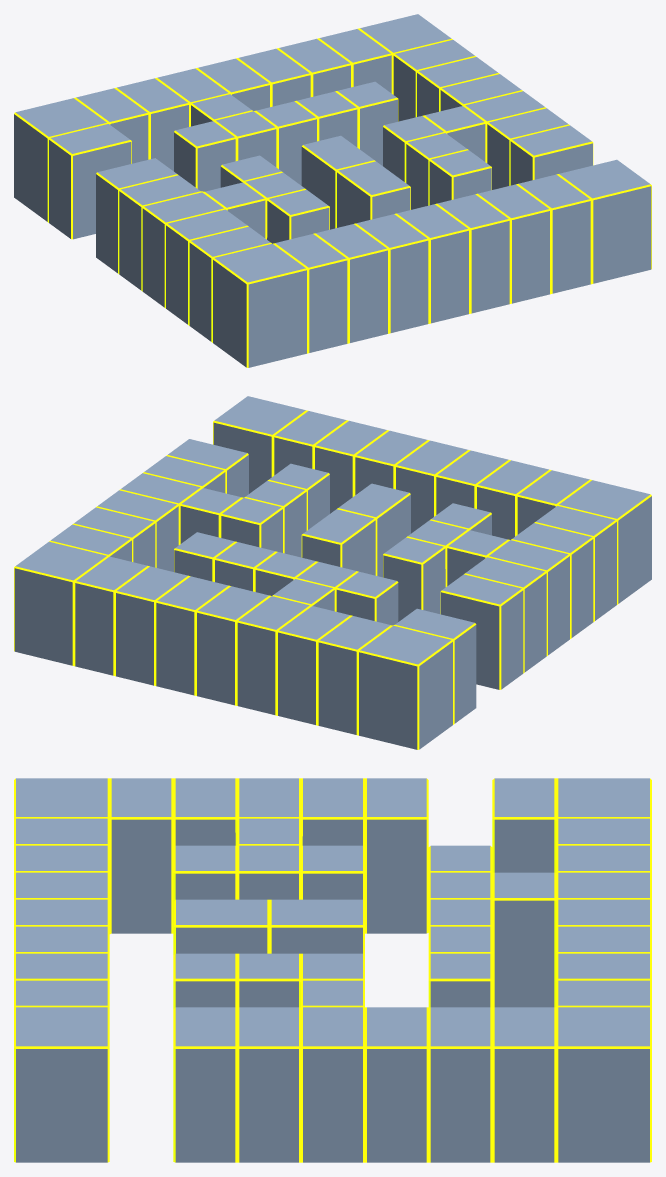
Rendered from maze-1.fbx.
The picture shows the model from 3 angles, top to bottom: view 1: azimuth 30°, elevation 25°; view 2: azimuth 150°, elevation 25°; view 3: azimuth 270°, elevation 25°; orthographic projection. The views are drawn at different scales.
Visible parts, largest first — view 1: Grid; view 2: Grid; view 3: Grid.
Part boxes in pixels (x1,y1,x2,y2): Grid: (14, 14, 651, 367); Grid: (14, 396, 651, 749); Grid: (14, 778, 651, 1162).
Bounding box in the file's own units: 500 × 100 × 500.
